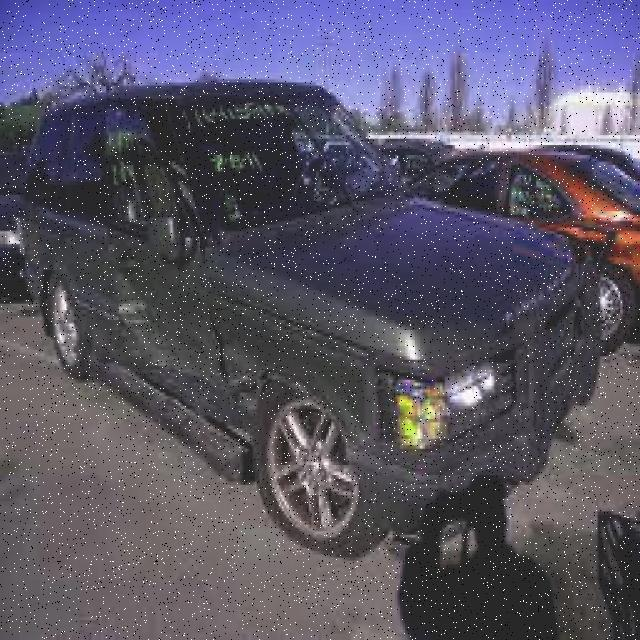car damage: (98, 100, 264, 492)
